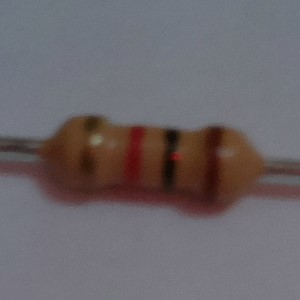black_band: (157, 127, 182, 193)
brown_band: (199, 122, 225, 205)
gold_band: (79, 113, 101, 197)
orange_band: (119, 122, 149, 193)
